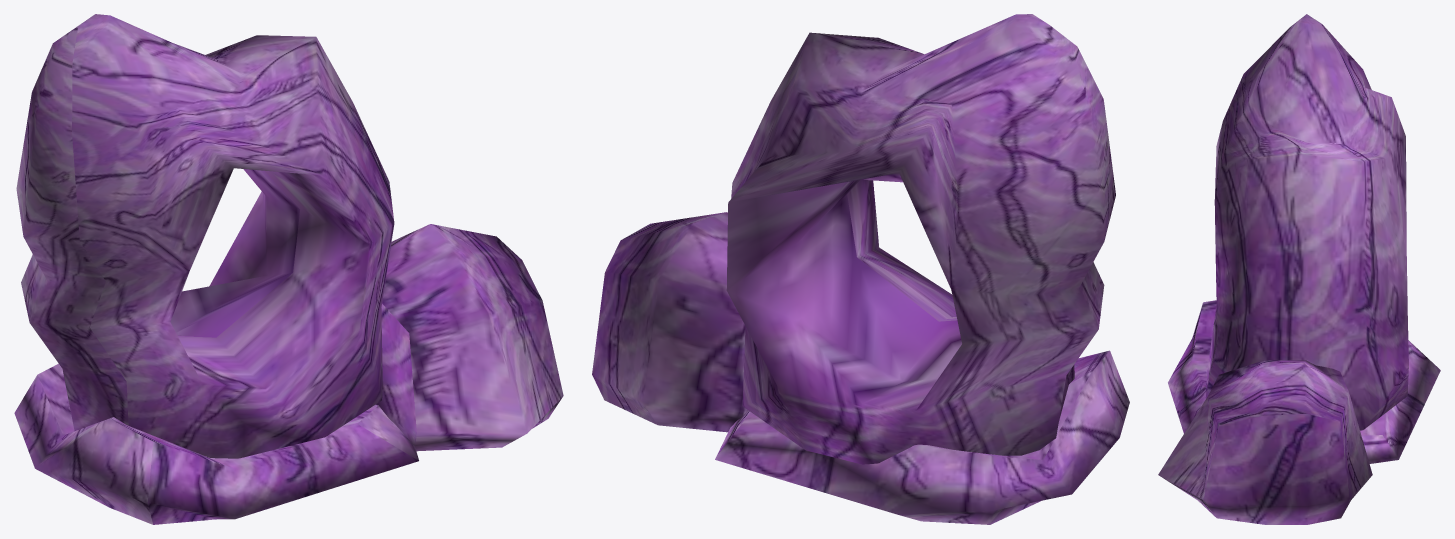
File: pm-rock-02-2.glb
3 renders of one model, left to right at view 1: azimuth 30°, elevation 25°; view 2: azimuth 150°, elevation 25°; view 3: azimuth 270°, elevation 25°, orthographic. The views are drawn at different scales.
Visible parts, largest first — view 1: Rock_02_Art; view 2: Rock_02_Art; view 3: Rock_02_Art.
Part boxes in pixels (x1,y1,x2,y2): Rock_02_Art: (14, 14, 563, 524); Rock_02_Art: (592, 14, 1129, 524); Rock_02_Art: (1158, 14, 1440, 524).
Size of what is drawn, in the model's own units: 2.55 by 2.34 by 1.65.
1 material, 1 textured.
